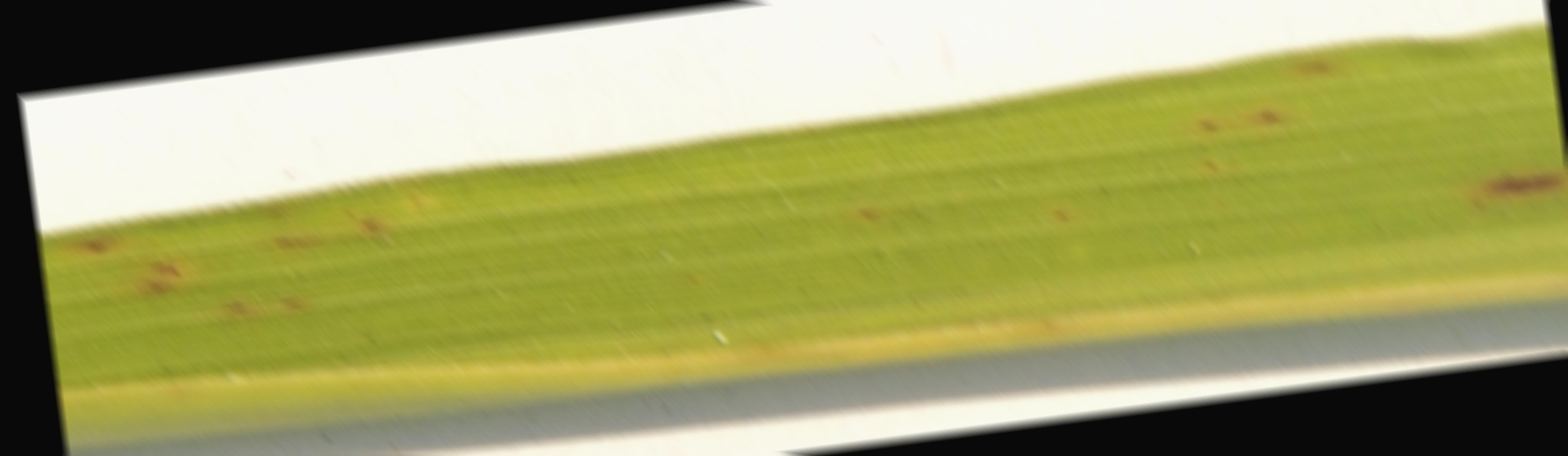Bacterial_Leaf_Blight: (55, 142, 438, 327), (1162, 97, 1305, 171), (1459, 160, 1568, 206)
